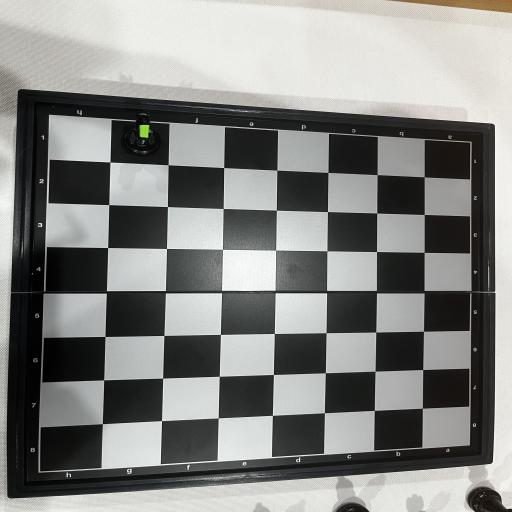Black knight: (122, 112, 161, 156)
